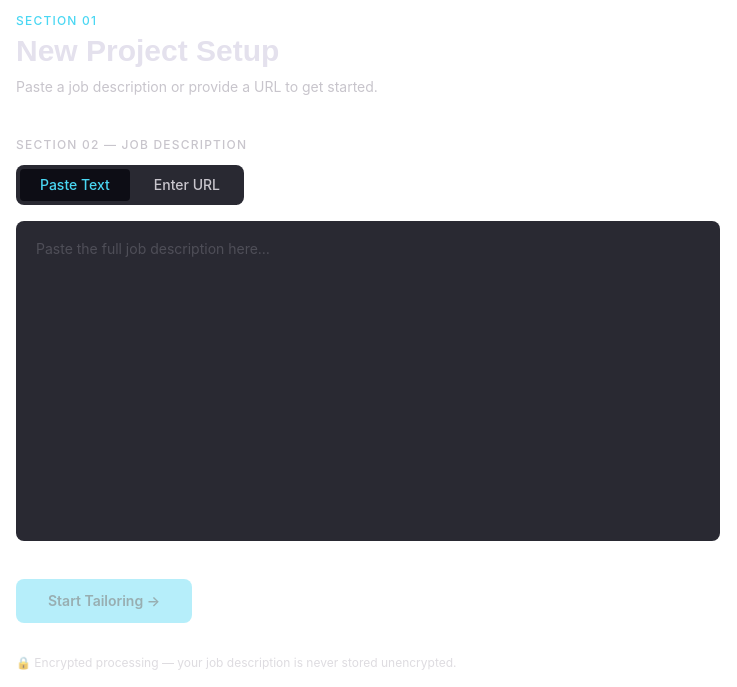
NewProjectPage — /dashboard/new › switching to "Enter URL" mode shows a url input instead of textarea
Click the button "Enter URL": (187, 185) [134,169,240,201]
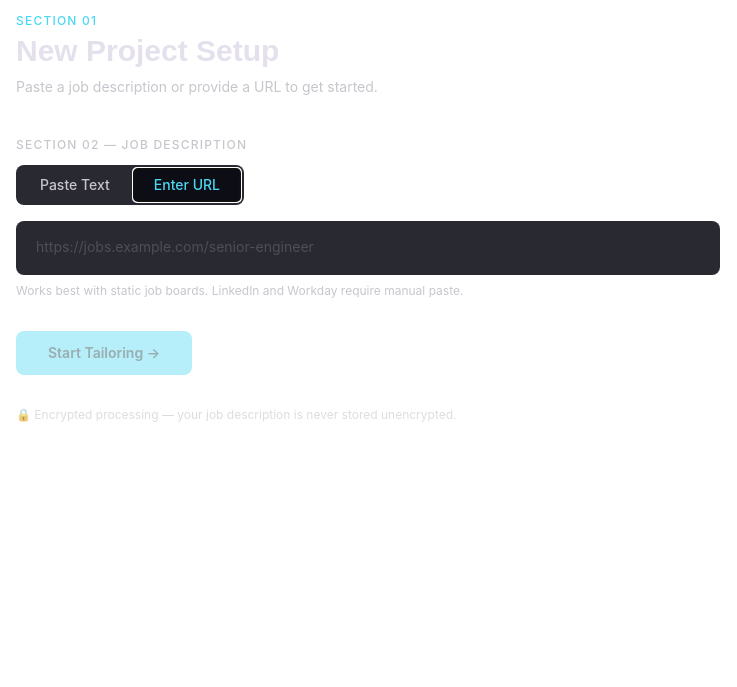
Expected: the field with placeholder "paste the full job description" is not shown
Now the field with placeholder "https://jobs.example.com/senior-engineer" is shown, box [16,221,720,275]
